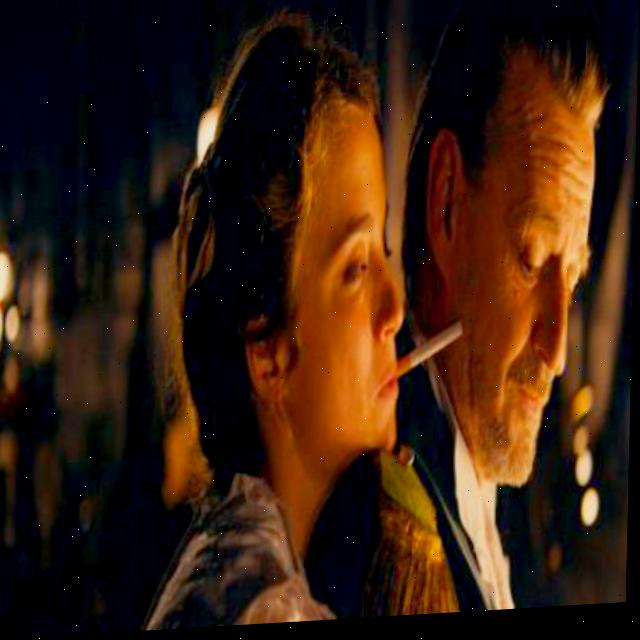cigarette: (395, 321, 468, 388)
